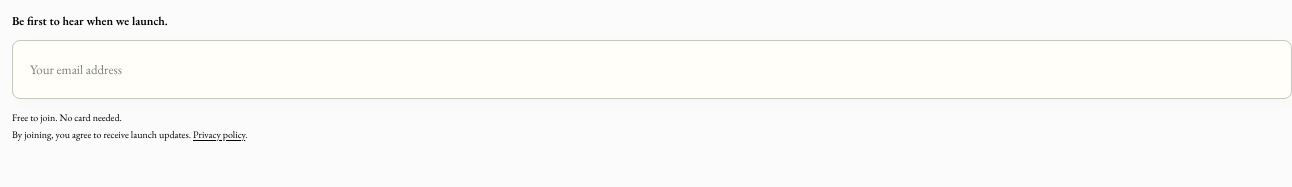
Scenario: does not claim success for a failed network request
Type "reader@example.com" into the field labelled "email address". click: (572, 70)
box: [18,46,1125,93]
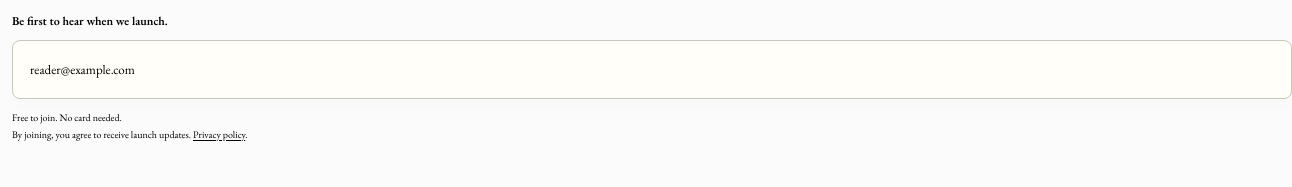
Submit the form, box [12,40,1291,143]
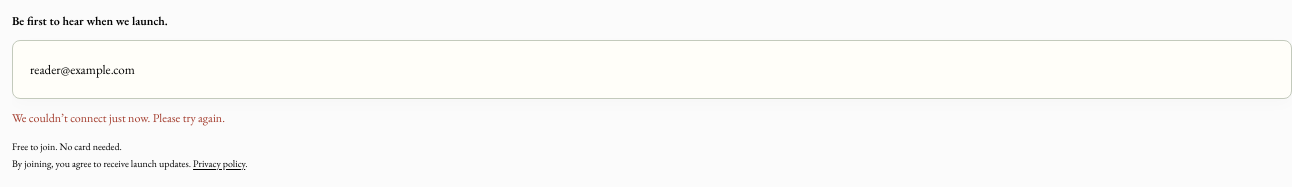
Expected: the message "We couldn’t connect just now. Please try again." is shown, [12,110,225,126]
